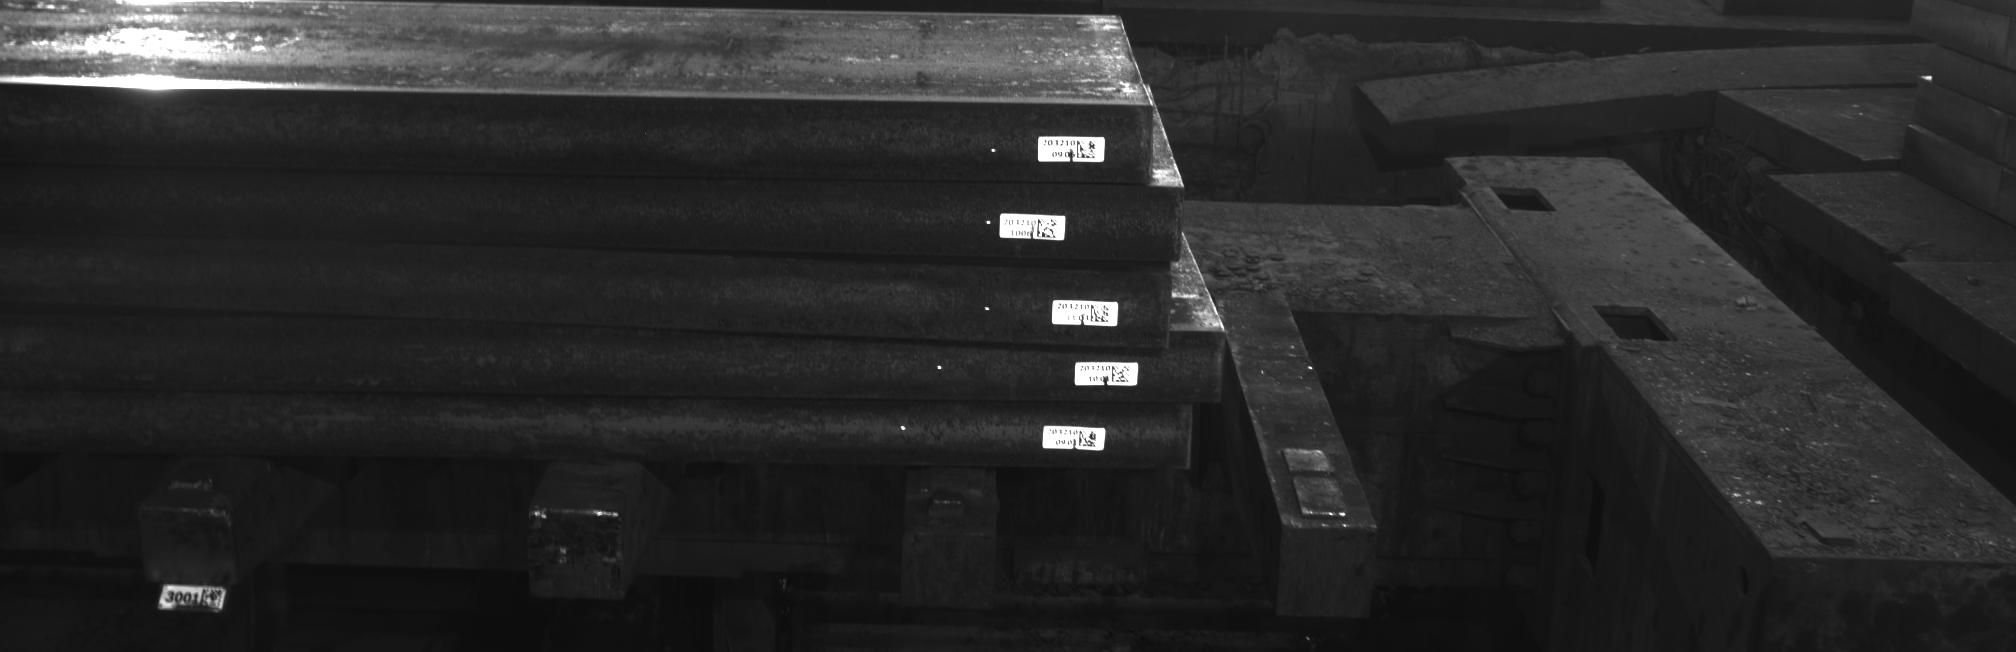data matrix: (199, 586, 226, 613), (1036, 217, 1061, 242), (1075, 138, 1101, 161), (1090, 302, 1113, 327), (1111, 364, 1133, 387), (1077, 430, 1098, 449)
